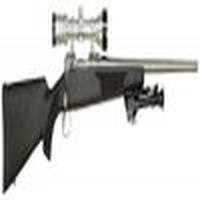gun: (1, 5, 200, 148)
